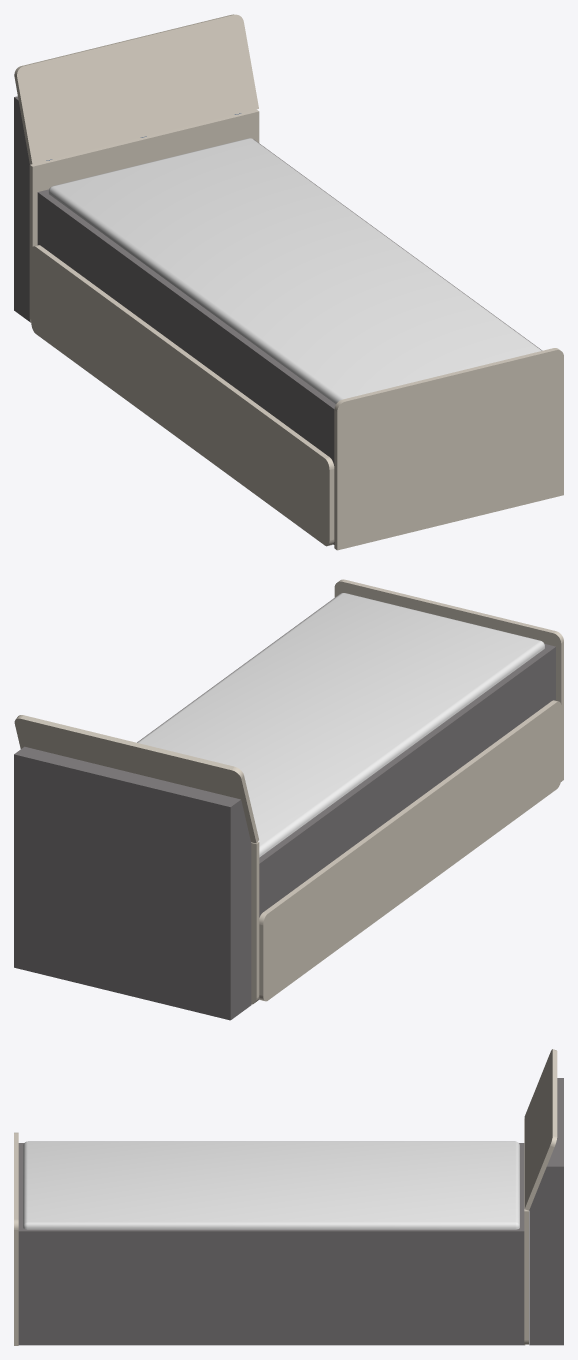
The model's file is 2pir_lozko_1_os_szczyt_z_pojemnikiem.obj.
3 renders of one model, top to bottom at view 1: azimuth 30°, elevation 25°; view 2: azimuth 150°, elevation 25°; view 3: azimuth 270°, elevation 25°, orthographic. The views are drawn at different scales.
Visible parts, largest first — view 1: ChamferBox01, Rectangle16, Rectangle15, Rectangle17, Box02, Line01; view 2: Line01, ChamferBox01, Rectangle17, Box02, Rectangle15, Rectangle16; view 3: Box02, ChamferBox01, Line01, Rectangle15, Rectangle16.
Boxes of the visible parts, <box> form: ChamferBox01: <box>48,138,541,403</box>; Rectangle16: <box>334,348,563,550</box>; Rectangle15: <box>14,14,259,322</box>; Rectangle17: <box>31,245,334,546</box>; Box02: <box>37,139,542,544</box>; Line01: <box>14,96,31,322</box>; Line01: <box>14,746,251,1020</box>; ChamferBox01: <box>137,593,544,857</box>; Rectangle17: <box>259,700,561,1001</box>; Box02: <box>137,594,555,1000</box>; Rectangle15: <box>14,715,259,1004</box>; Rectangle16: <box>334,579,563,781</box>; Box02: <box>18,1143,524,1345</box>; ChamferBox01: <box>23,1141,519,1229</box>; Line01: <box>529,1078,563,1345</box>; Rectangle15: <box>524,1049,557,1344</box>; Rectangle16: <box>14,1132,18,1345</box>.
Size of the model in its own units: 93.67 by 97.03 by 232.
